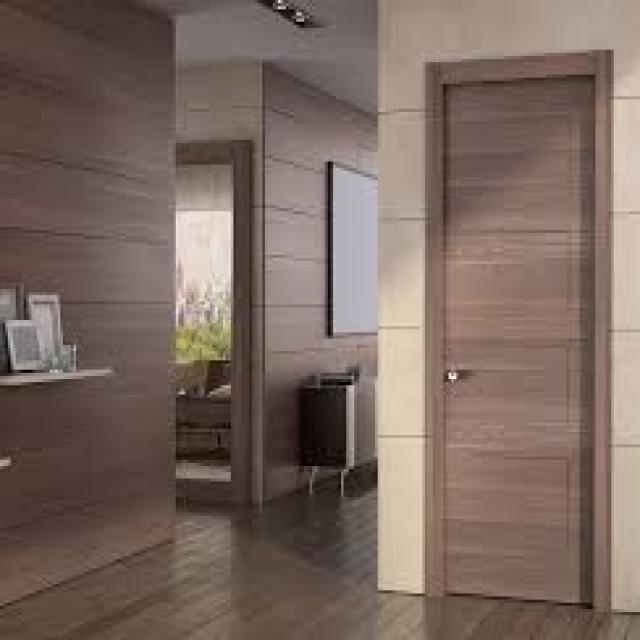door: (429, 55, 604, 608)
